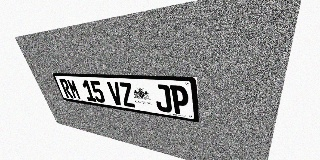1: (80, 80, 97, 102)
5: (90, 80, 106, 103)
J: (153, 84, 172, 113)
M: (66, 79, 82, 100)
P: (170, 85, 189, 115)
R: (59, 79, 74, 99)
V: (107, 81, 124, 106)
Z: (118, 82, 136, 108)
